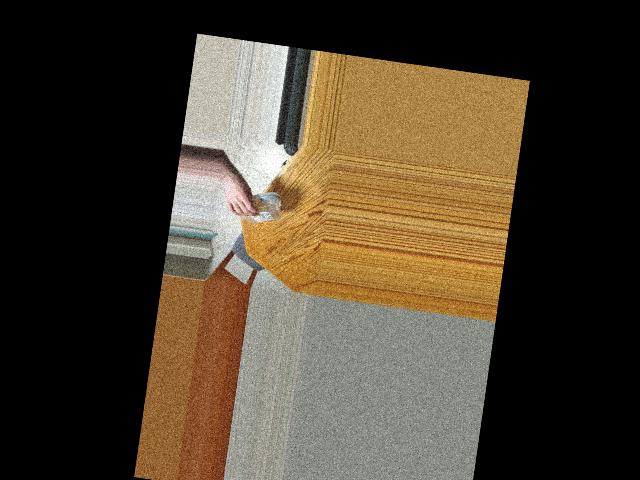cheese: (229, 185, 270, 223)
